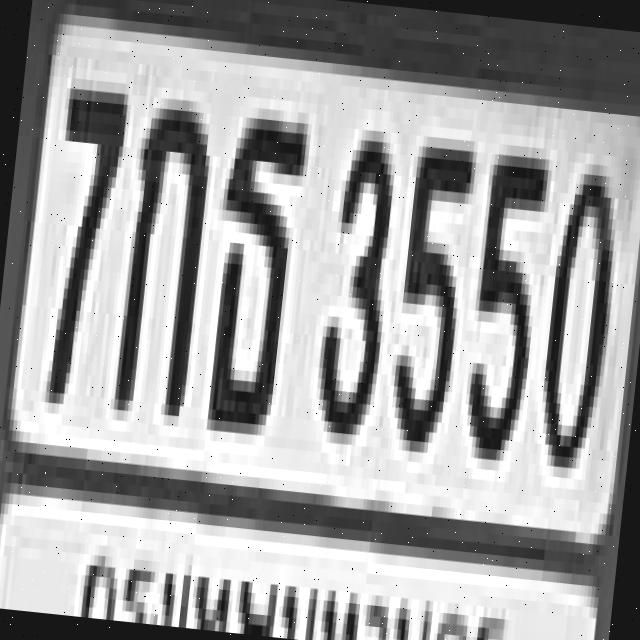0: (532, 150, 618, 459)
10GorGai: (110, 86, 212, 406)
3: (310, 117, 400, 426)
33ThorThong: (200, 106, 309, 427)
5: (384, 135, 474, 444), (461, 142, 546, 452)
7: (34, 78, 126, 396)
Bangkok: (58, 489, 534, 640)
